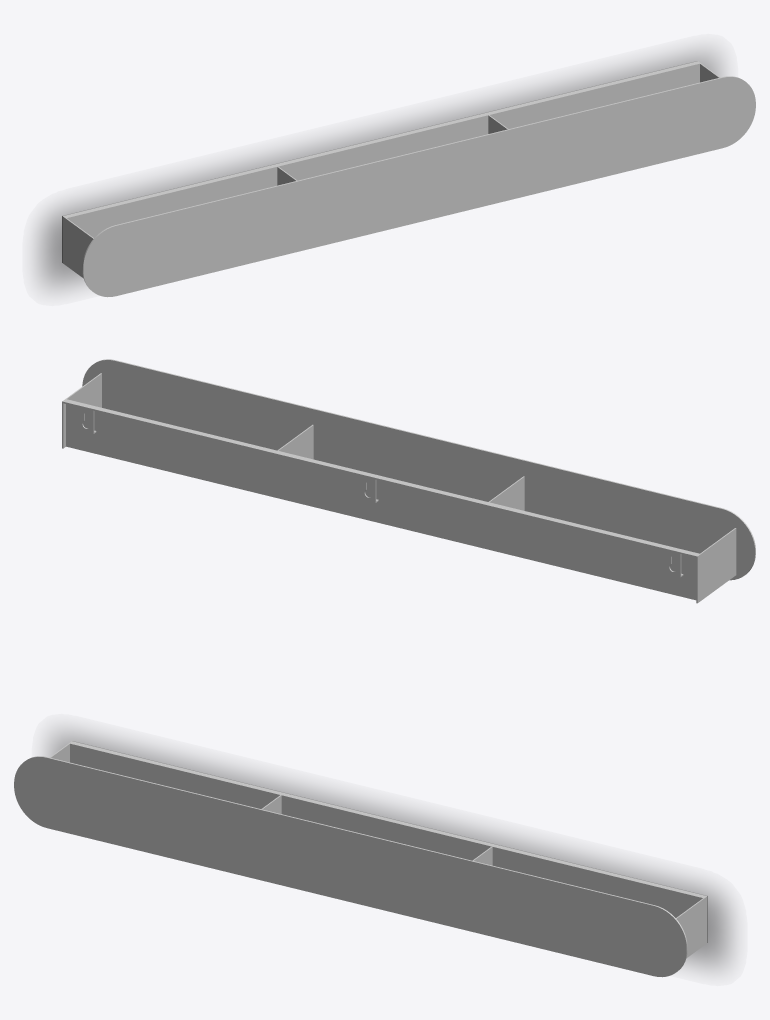
Rendered from round-mono.cf1748f4ee.ar.glb.
3 renders of one model, top to bottom at view 1: azimuth 30°, elevation 25°; view 2: azimuth 150°, elevation 25°; view 3: azimuth 330°, elevation 25°, orthographic.
Visible parts, largest first — view 1: NAUO1, object 2; view 2: NAUO1; view 3: NAUO1, object 2.
Part boxes in pixels (bbox=[...]): NAUO1: bbox=[62, 61, 755, 297]; object 2: bbox=[36, 51, 723, 288]; NAUO1: bbox=[62, 359, 755, 603]; NAUO1: bbox=[14, 741, 707, 977]; object 2: bbox=[46, 731, 733, 968].
Size of the model in its own units: 0.98 by 0.17 by 0.092.
Materials: 2 (1 with a texture image).
